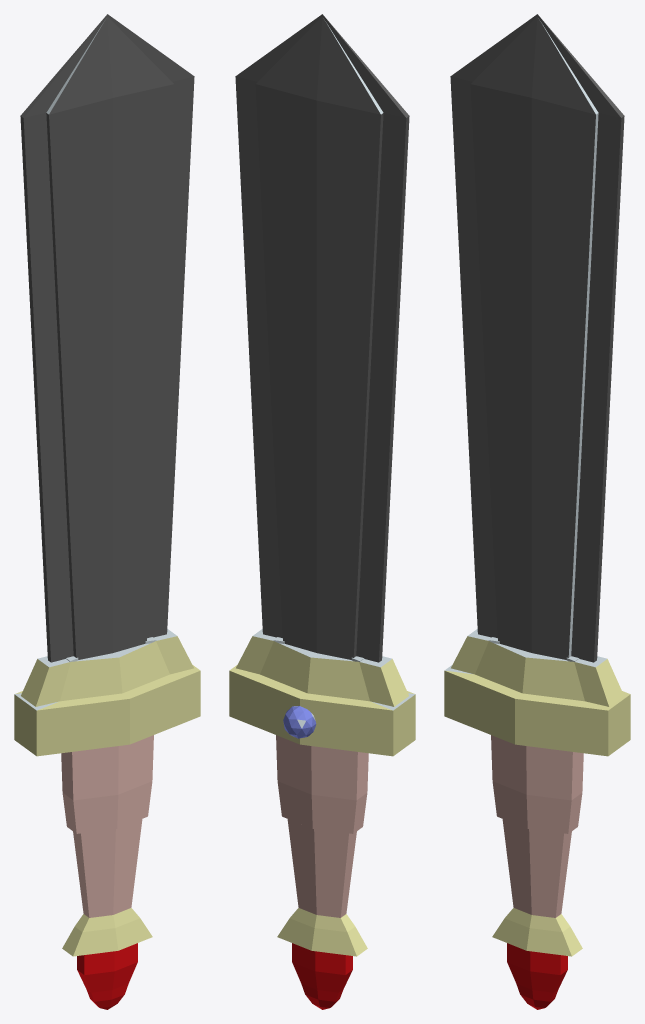
Rendered from SWORDfbx.fbx.
The picture shows the model from 3 angles, left to right: view 1: azimuth 30°, elevation 25°; view 2: azimuth 150°, elevation 25°; view 3: azimuth 330°, elevation 25°; orthographic projection.
Parts seen in each view (by area): view 1: Cylinder; view 2: Cylinder; view 3: Cylinder.
Boxes of the visible parts, x1,y1,x2,y2 form: Cylinder: (14,14,200,1009); Cylinder: (229,14,415,1009); Cylinder: (444,14,630,1009).
Bounding box in the file's own units: 451 × 2511 × 244.
